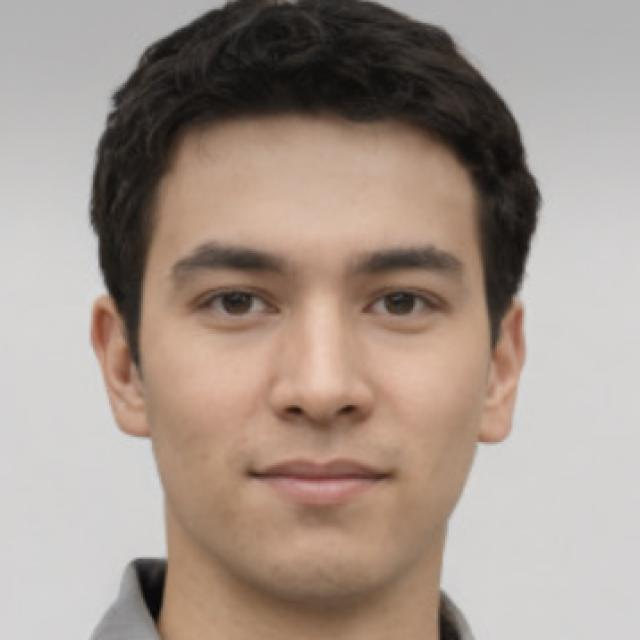natural: (100, 9, 531, 555)
